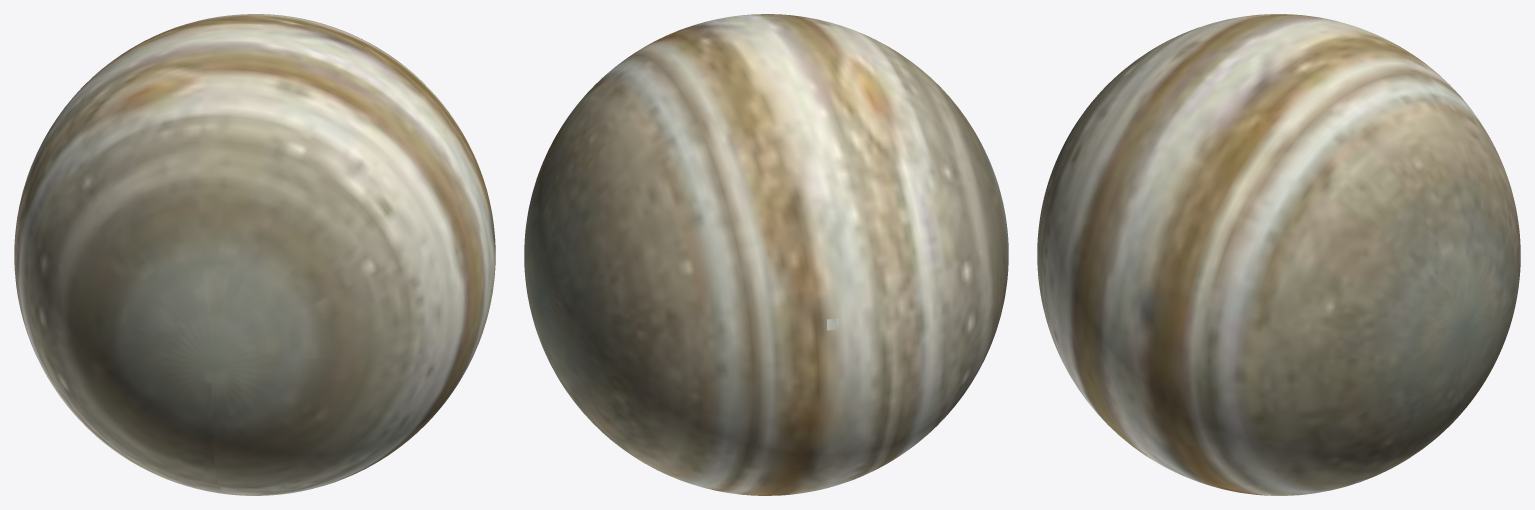
The model's file is jupiter.glb.
3 views of the same model, side by side, from view 1: azimuth 30°, elevation 25°; view 2: azimuth 150°, elevation 25°; view 3: azimuth 270°, elevation 25° (orthographic).
Visible parts, largest first — view 1: Object_2; view 2: Object_2; view 3: Object_2.
Part boxes in pixels (x1,y1,x2,y2): Object_2: [14, 14, 495, 495]; Object_2: [524, 14, 1008, 495]; Object_2: [1037, 14, 1520, 495].
Bounding box in the file's own units: 12.61 × 12.58 × 12.62.
Materials: 1 (1 with a texture image).
